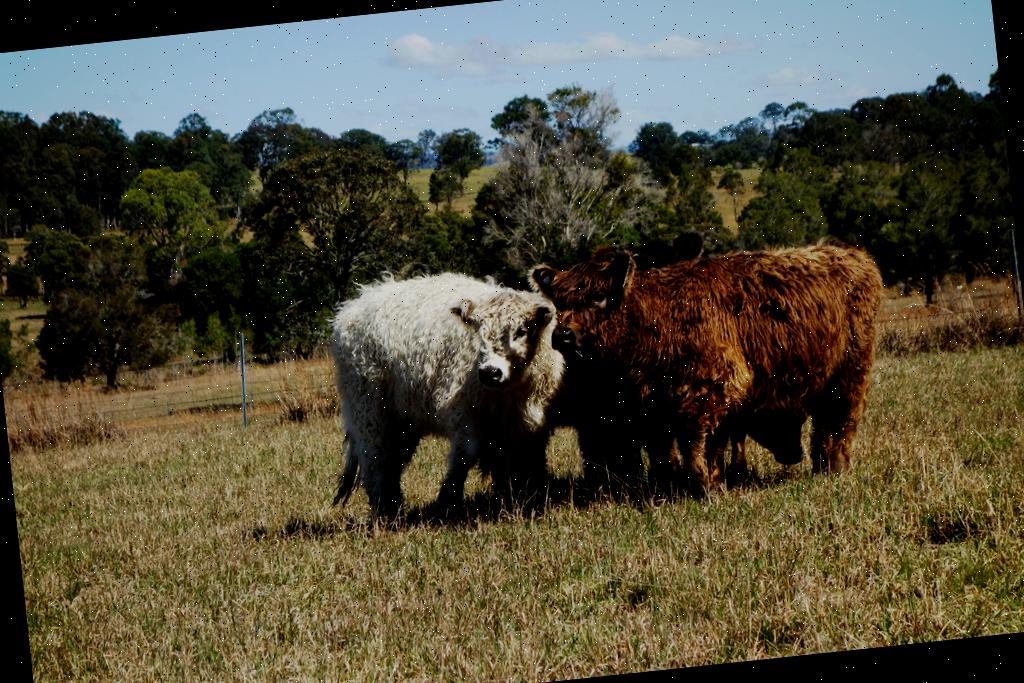Sheep: (305, 244, 580, 534), (456, 232, 726, 518), (719, 408, 810, 482)
